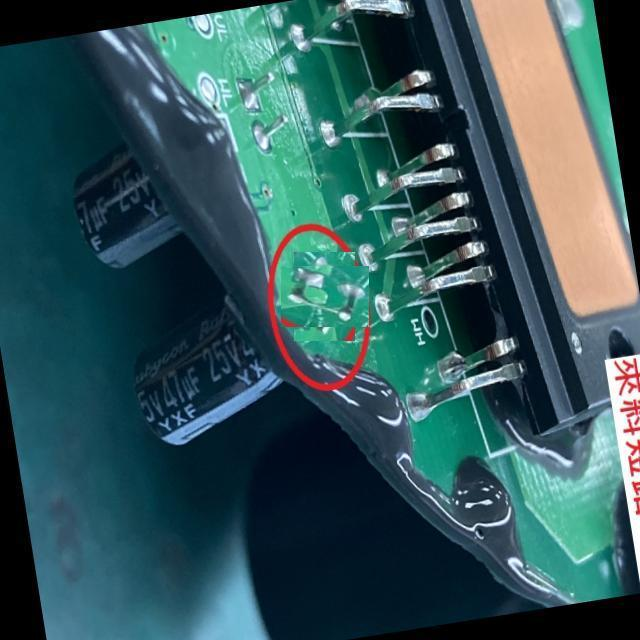damged: (287, 259, 362, 334)
